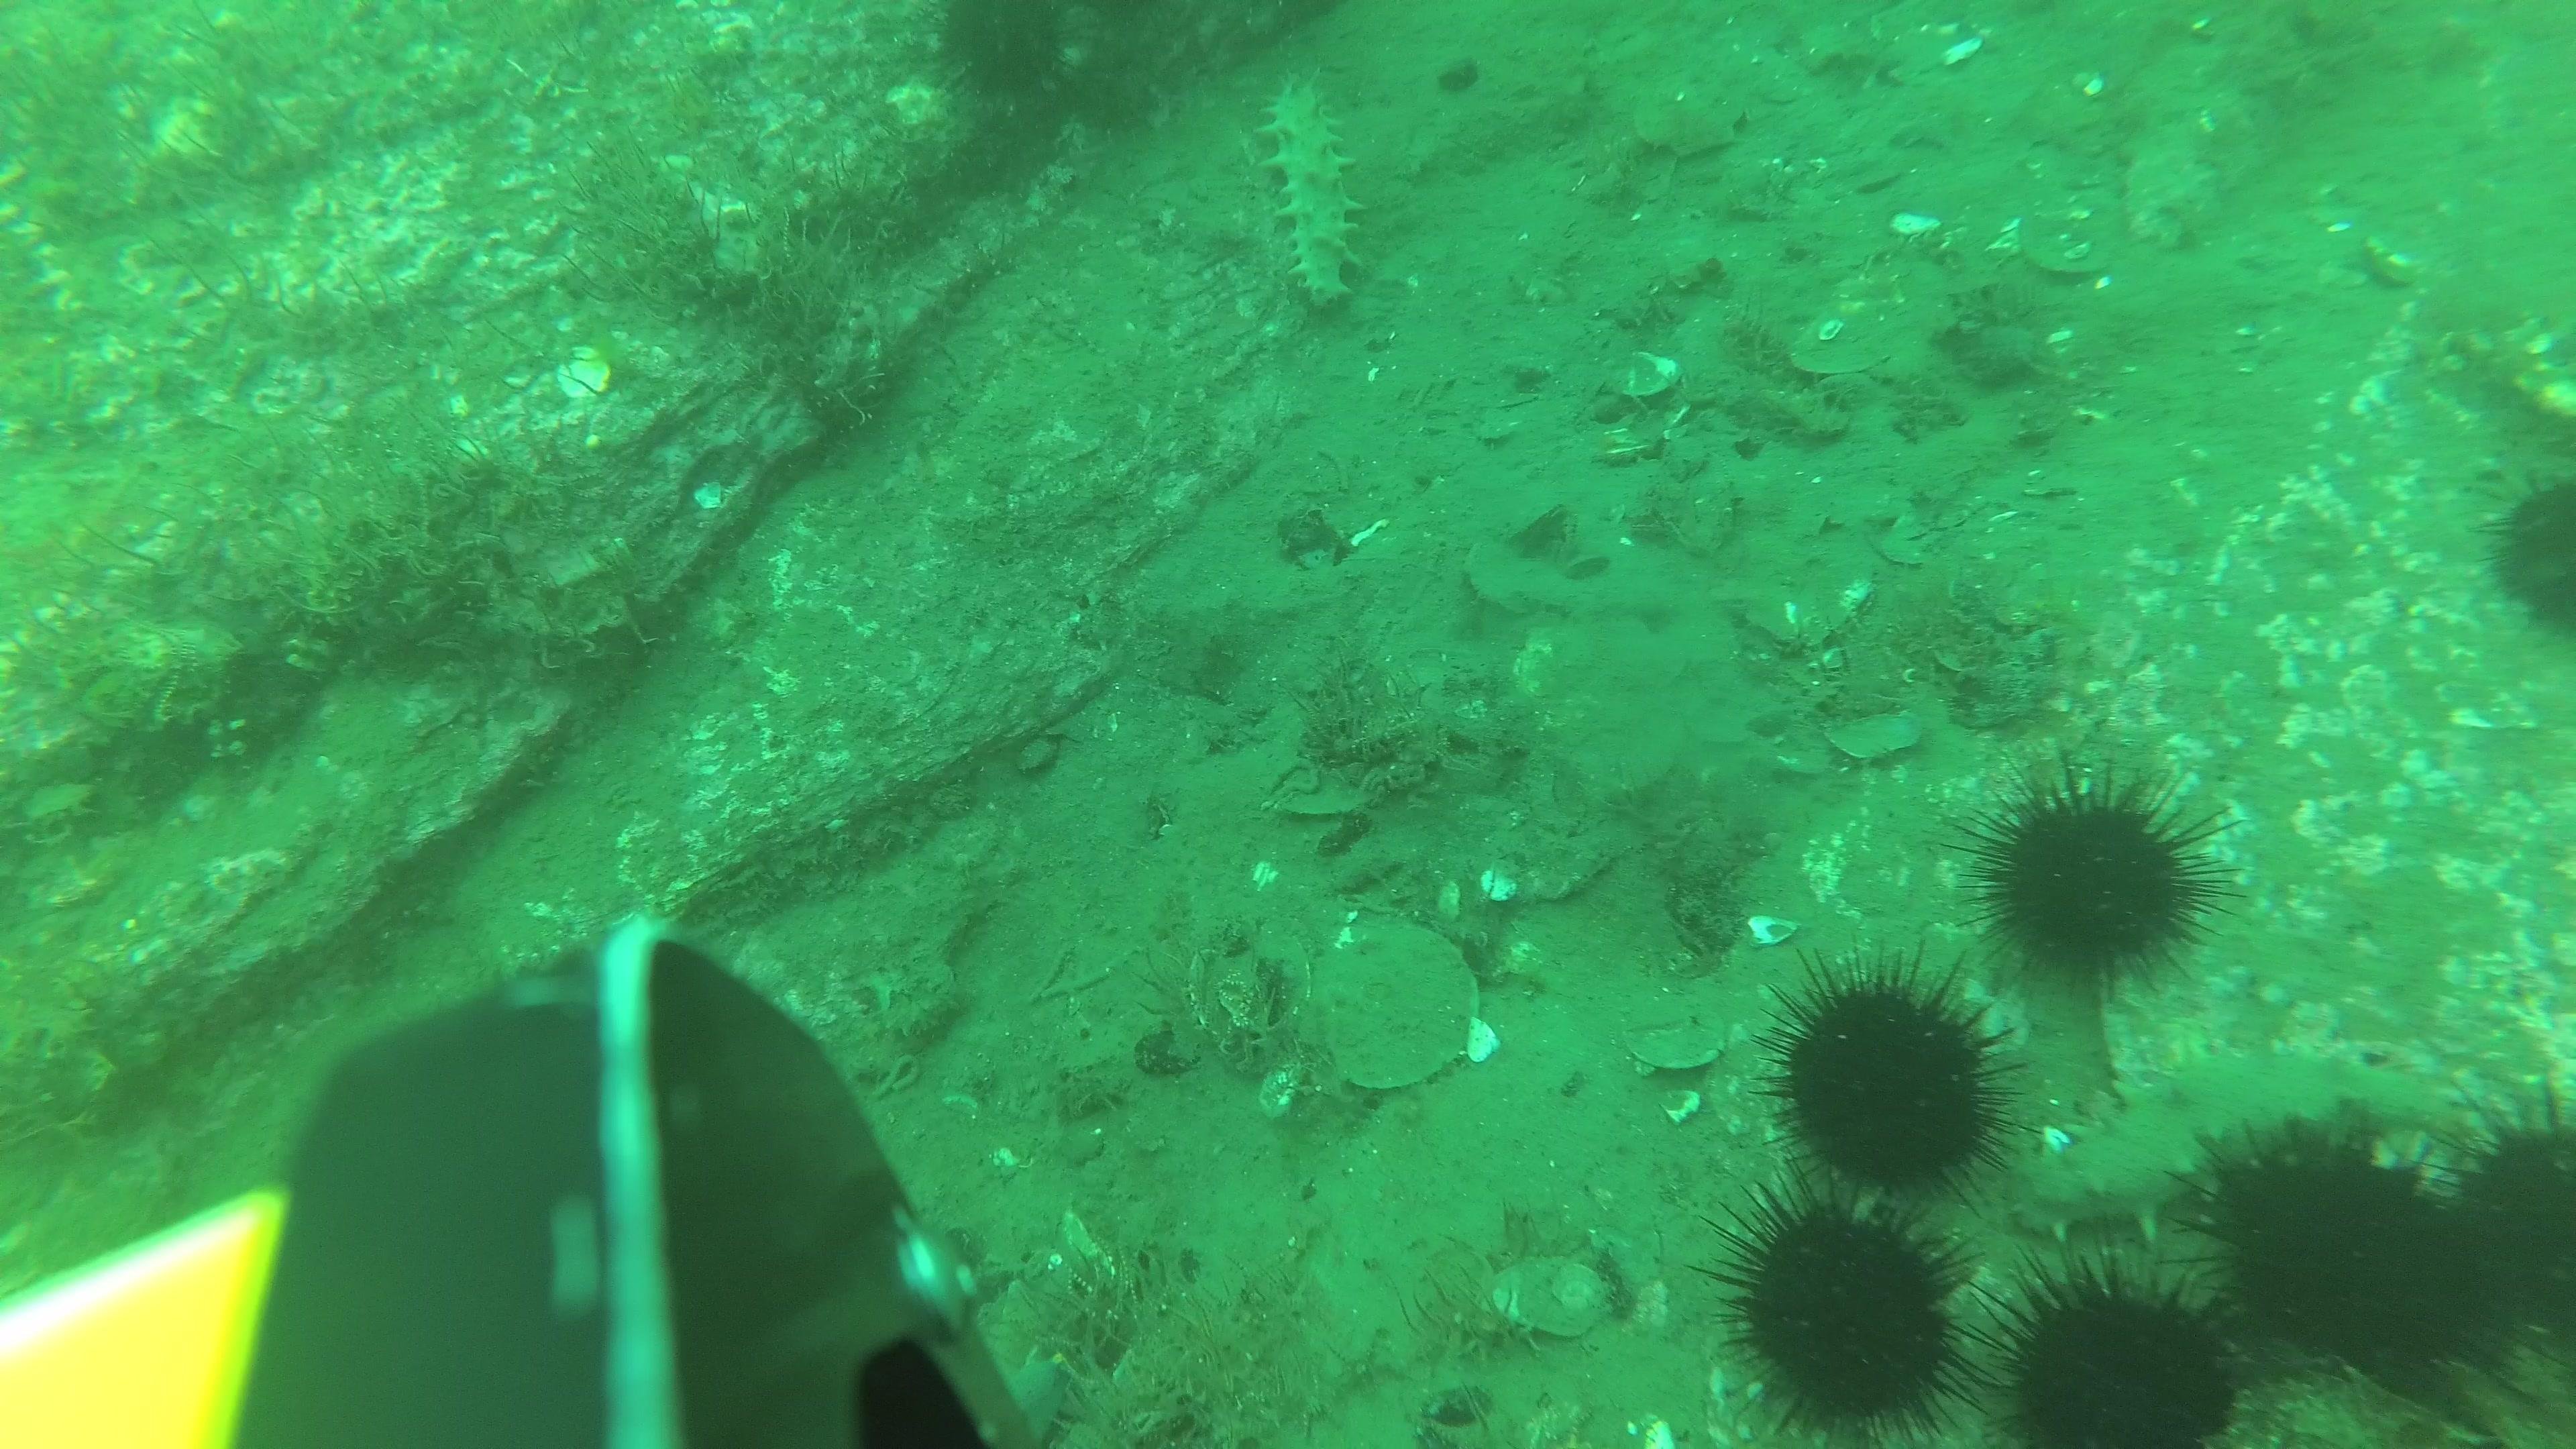echinus: (1693, 1154, 1999, 1449), (1964, 743, 2247, 1003), (1760, 943, 2028, 1215), (2176, 1115, 2449, 1380), (1962, 1240, 2266, 1449), (2420, 1088, 2576, 1362), (2480, 462, 2576, 648), (931, 0, 1072, 113)
holothurian: (2022, 1047, 2438, 1244), (1253, 71, 1361, 313)
scallop: (1327, 929, 1486, 1097), (1493, 1256, 1610, 1338), (1633, 76, 1743, 156), (1626, 1000, 1725, 1069)
